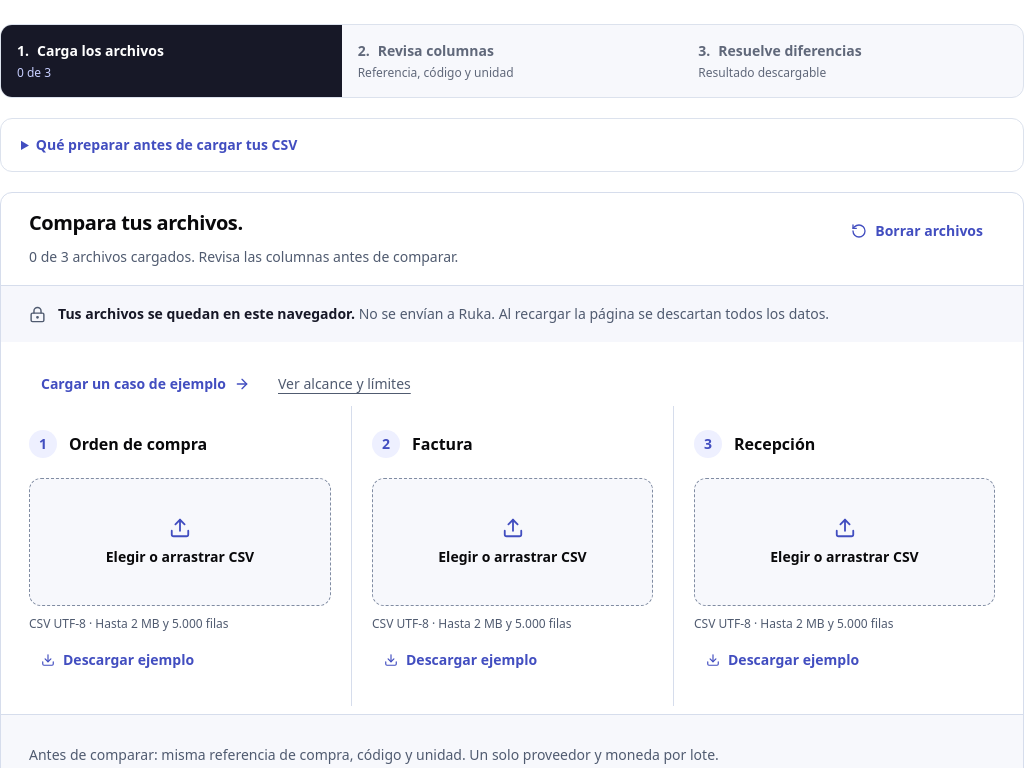
Test case: tool experience upgrade › shows file preparation and clears it when a sample is loaded
Click the heading "Qué preparar antes de cargar tus CSV": (167, 144) 36,135 -> 297,154
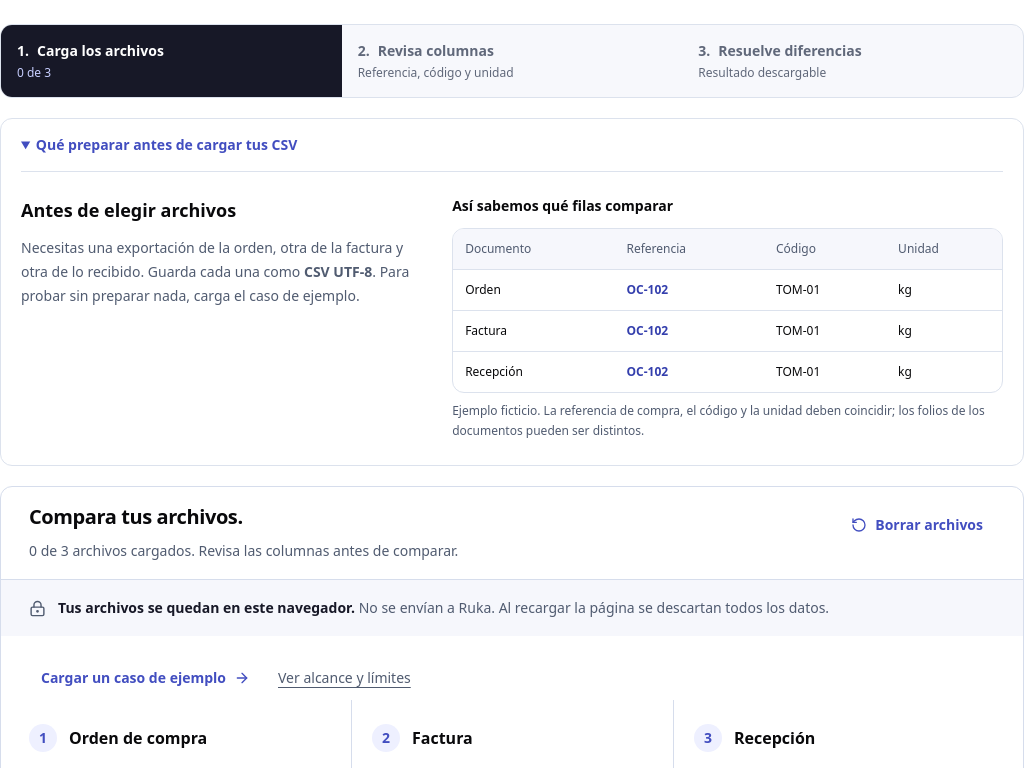
Expected: the table named "clave compartida" is shown, 453,229 -> 1002,392
Click the button "Cargar un caso de ejemplo": (146, 678) 29,656 -> 262,700
(page scrolled)
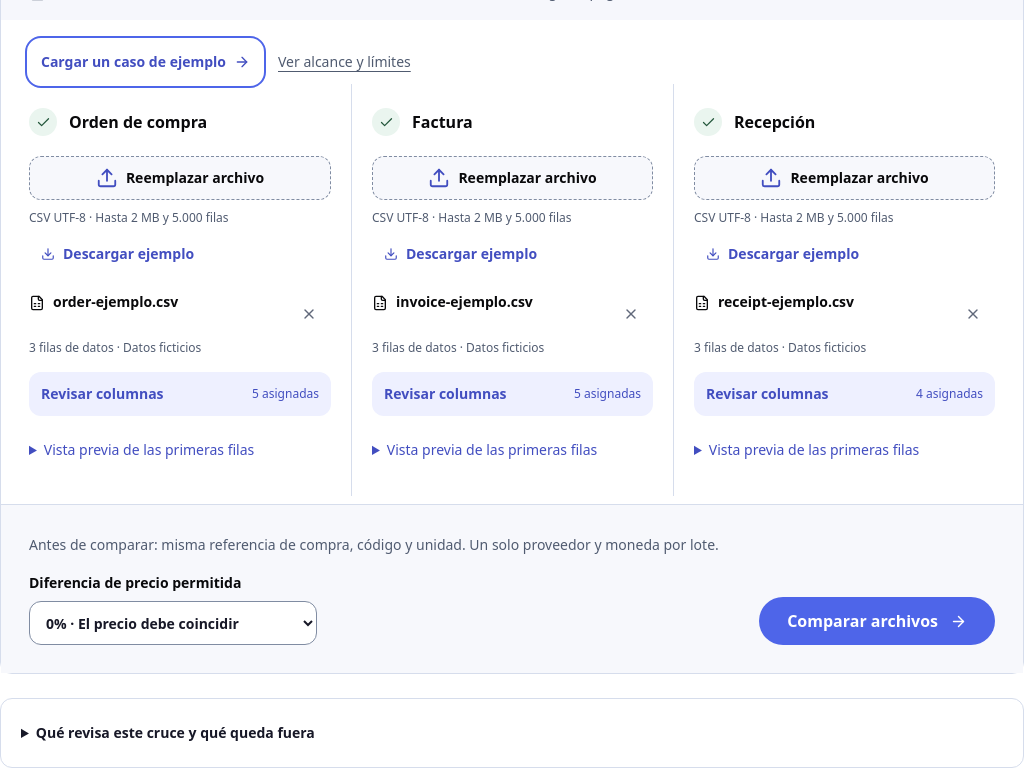
Expected: the table "clave compartida" is not shown
Click the button "Comparar archivos": (877, 621) 759,597 -> 995,645
(page scrolled)
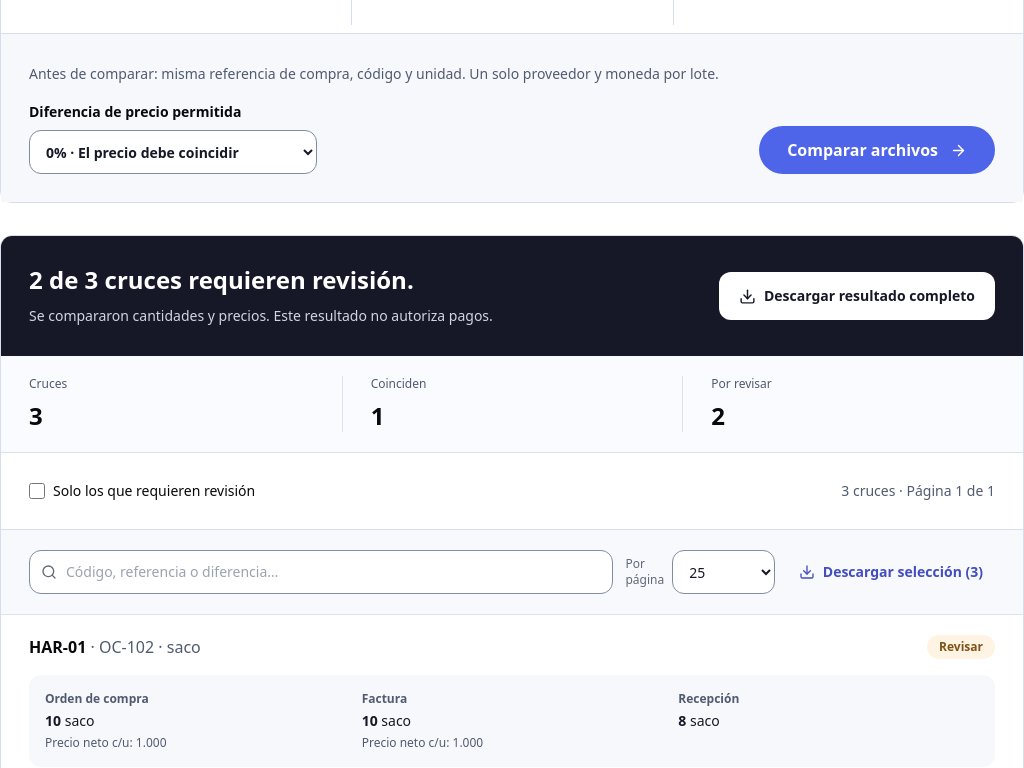
Expected: the heading "2 de 3 cruces requieren revisión." is shown, 29,263 -> 414,296
Expected: the text "Por revisar" is shown, 711,375 -> 772,392
